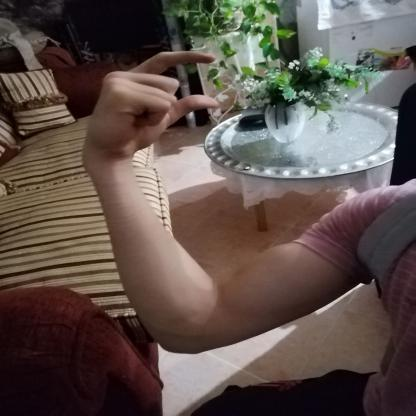DELL: (75, 42, 232, 165)
